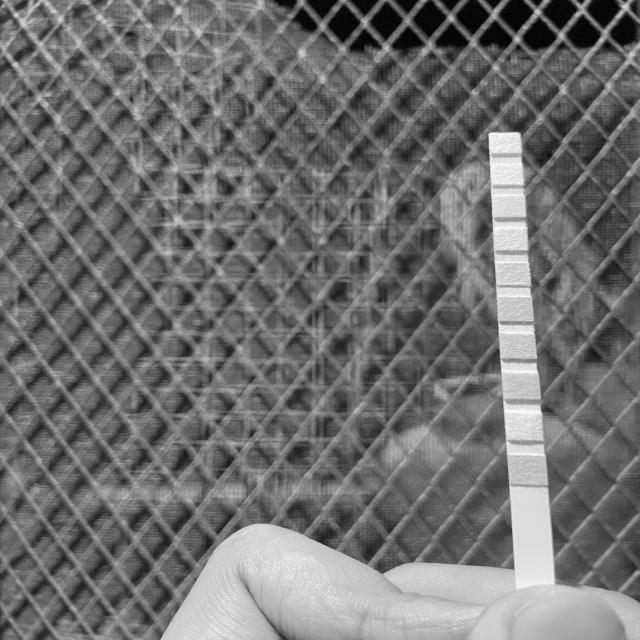Bilirubin: (507, 412, 543, 440)
Blood: (499, 297, 532, 320)
Glucose: (510, 455, 545, 485)
Ketone: (504, 373, 538, 398)
Leukocytes: (491, 134, 522, 154)
Nitrite: (492, 165, 524, 185)
Protein: (495, 228, 527, 250)
SpGravity: (501, 334, 536, 358)
Urobilinogen: (492, 196, 524, 216)
background: (0, 0, 640, 640)
pH: (496, 262, 530, 286)
strip: (489, 133, 556, 582)
